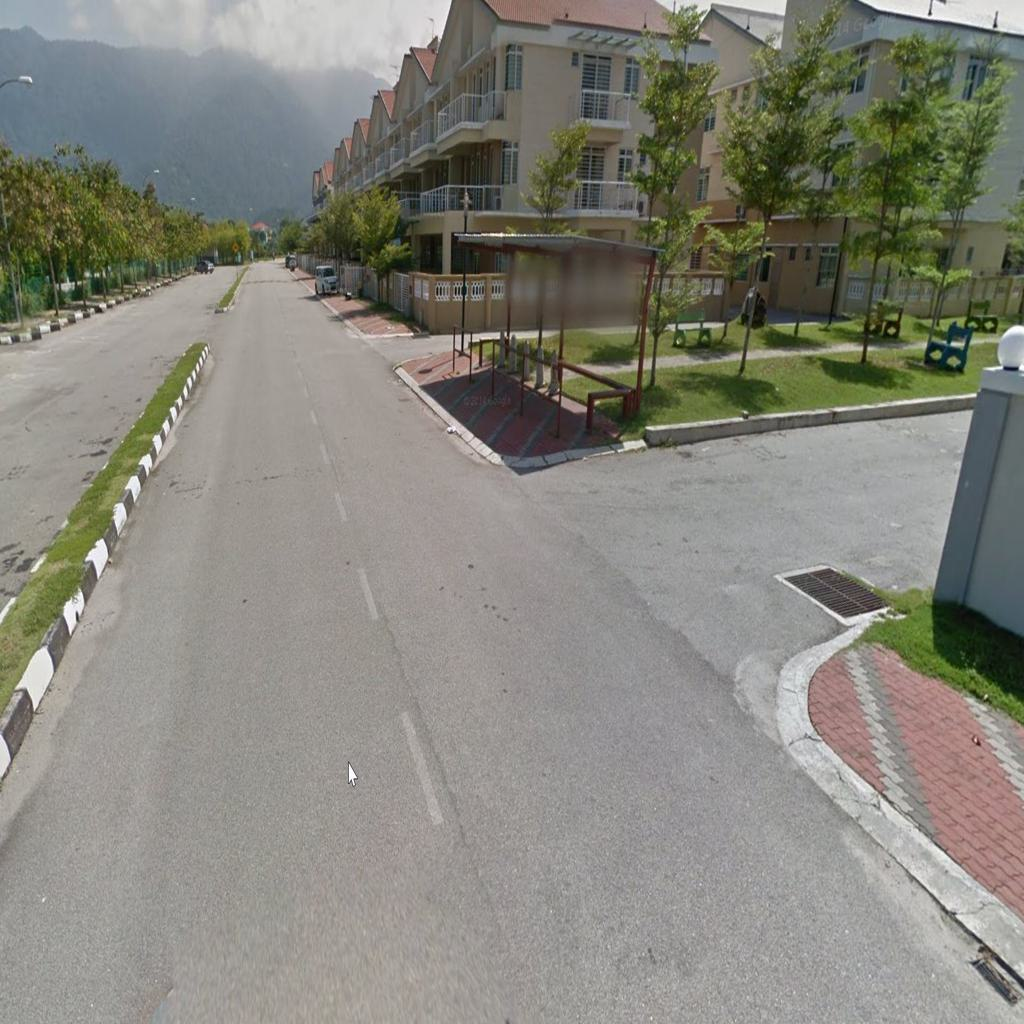Junction: (445, 402, 941, 731)
